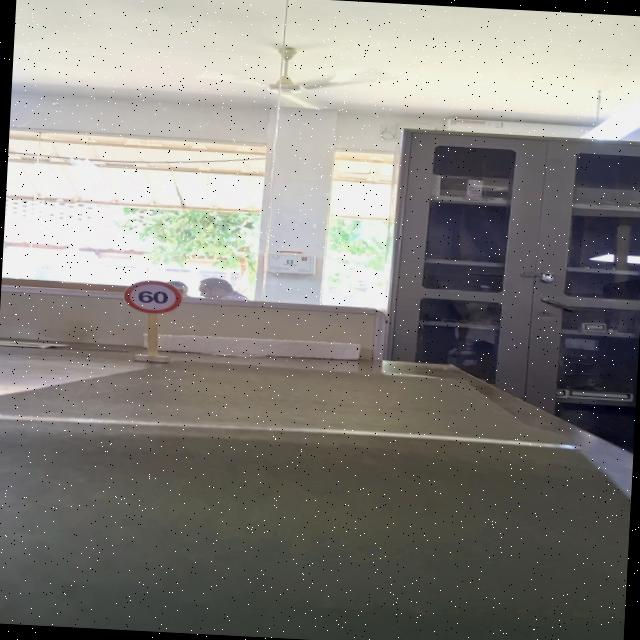Speed60: (121, 278, 184, 316)
